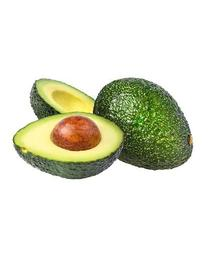avocado: (93, 77, 194, 172), (12, 120, 126, 179), (30, 77, 100, 131)
